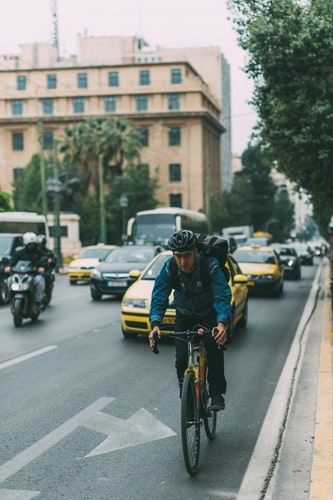helmet: (166, 223, 193, 257)
